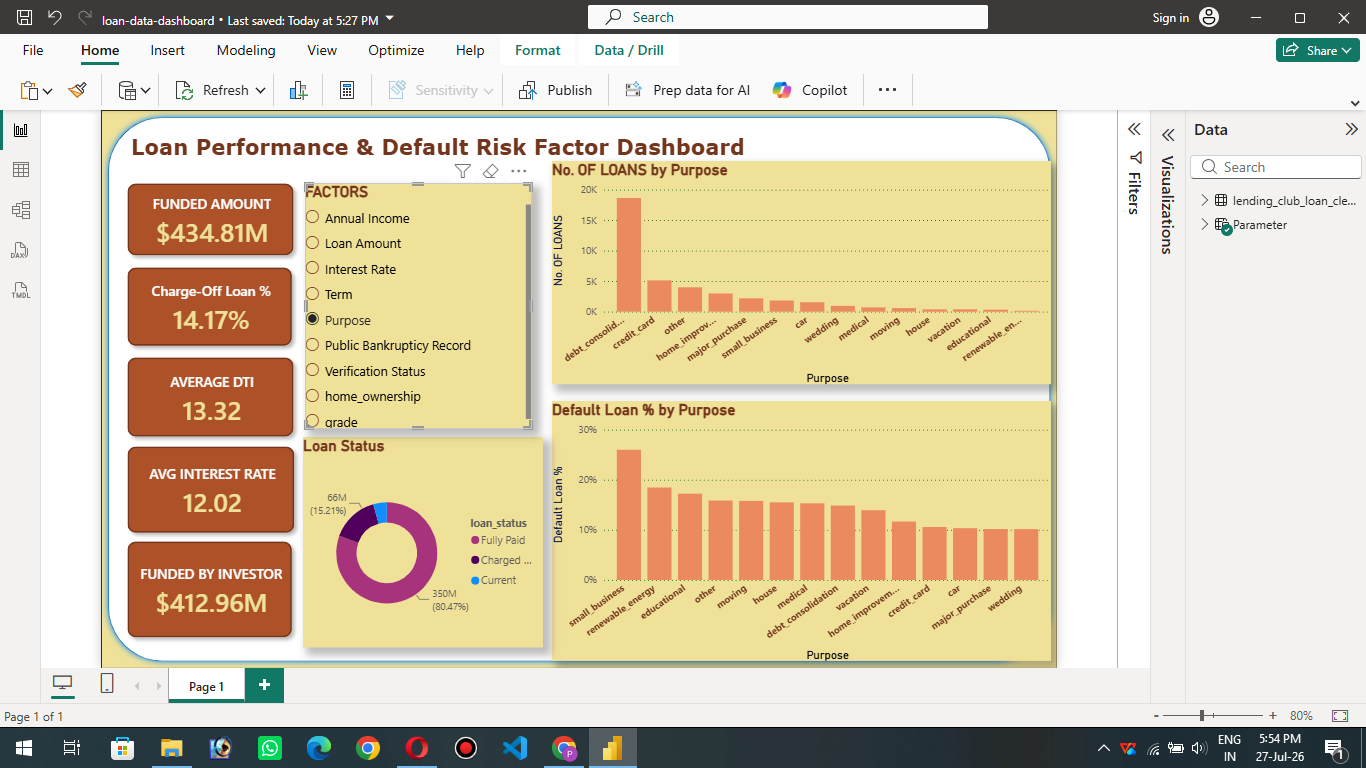

The page's visual inventory and layout, read from the dashboard file:
{"tool":"powerbi","page":{"name":"Page 1","canvas":[1200,700],"ordinal":0},"visuals":[{"type":"textbox","box":[32.3,12.9,533.3,387.1],"z":0},{"type":"shape","box":[0,0,1200,215.5],"z":1000},{"type":"shape","box":[0,410.3,1200,290.3],"z":2000},{"type":"shape","box":[0,0,1200,700.8],"z":3000},{"type":"clusteredColumnChart","fields":{"Category":["lending_club_loan_clean_data.home_ownership"],"Y":["CountNonNull(lending_club_loan_clean_data.annual_inc)"]},"box":[565.2,64.5,625.8,280],"z":4000},{"type":"listSlicer","fields":{"Values":["Parameter.Parameter"]},"box":[255.5,91.6,285.2,308.4],"z":5000},{"type":"clusteredColumnChart","fields":{"Category":["lending_club_loan_clean_data.home_ownership"],"Y":["lending_club_loan_clean_data.Default Loan %"]},"box":[565.2,365.2,625.8,326.5],"z":6000},{"type":"cardVisual","fields":{"Data":["Sum(lending_club_loan_clean_data.funded_amnt)"]},"box":[21.9,80,232.3,114.8],"z":7000},{"type":"textbox","box":[32.3,23.2,934.2,56.8],"z":8000},{"type":"cardVisual","fields":{"Data":["lending_club_loan_clean_data.Default Loan %"]},"box":[21.9,185.8,231,122.6],"z":9000},{"type":"cardVisual","fields":{"Data":["Avg(lending_club_loan_clean_data.dti)"]},"box":[21.9,298.1,232.3,123.9],"z":10000},{"type":"cardVisual","fields":{"Data":["Avg(lending_club_loan_clean_data.int_rate)"]},"box":[21.3,410.2,233.3,133],"z":11000},{"type":"cardVisual","fields":{"Data":["Sum(lending_club_loan_clean_data.funded_amnt_inv)"]},"box":[21.9,529,231,144.5],"z":12000},{"type":"donutChart","title":"Loan Status","fields":{"Category":["lending_club_loan_clean_data.loan_status"],"Y":["Sum(lending_club_loan_clean_data.funded_amnt)"]},"box":[253.8,410,301.2,263.8],"z":13000}]}

Visuals, with their boxes on the page's 1200x700 design canvas (x1, y1, x2, y2). These are canvas units, not pixel positions in the 1366x768 screenshot, which may show the page scaled, cropped or inside an application window:
textbox: x1=32 y1=13 x2=566 y2=400
shape: x1=0 y1=0 x2=1200 y2=216
shape: x1=0 y1=410 x2=1200 y2=701
shape: x1=0 y1=0 x2=1200 y2=701
clusteredColumnChart - lending_club_loan_clean_data.home_ownership x CountNonNull(lending_club_loan_clean_data.annual_inc): x1=565 y1=64 x2=1191 y2=344
listSlicer - Parameter.Parameter: x1=256 y1=92 x2=541 y2=400
clusteredColumnChart - lending_club_loan_clean_data.home_ownership x lending_club_loan_clean_data.Default Loan %: x1=565 y1=365 x2=1191 y2=692
cardVisual - Sum(lending_club_loan_clean_data.funded_amnt): x1=22 y1=80 x2=254 y2=195
textbox: x1=32 y1=23 x2=966 y2=80
cardVisual - lending_club_loan_clean_data.Default Loan %: x1=22 y1=186 x2=253 y2=308
cardVisual - Avg(lending_club_loan_clean_data.dti): x1=22 y1=298 x2=254 y2=422
cardVisual - Avg(lending_club_loan_clean_data.int_rate): x1=21 y1=410 x2=255 y2=543
cardVisual - Sum(lending_club_loan_clean_data.funded_amnt_inv): x1=22 y1=529 x2=253 y2=674
"Loan Status" donutChart: x1=254 y1=410 x2=555 y2=674
